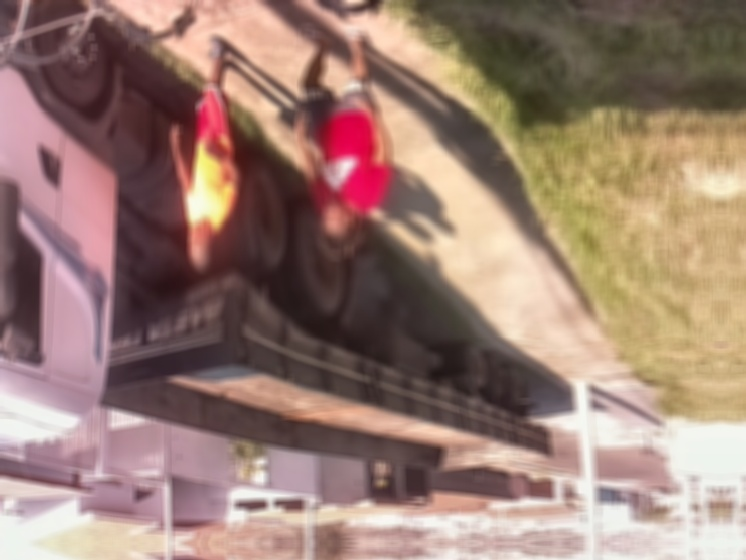person: (290, 19, 393, 258), (167, 31, 244, 274)
